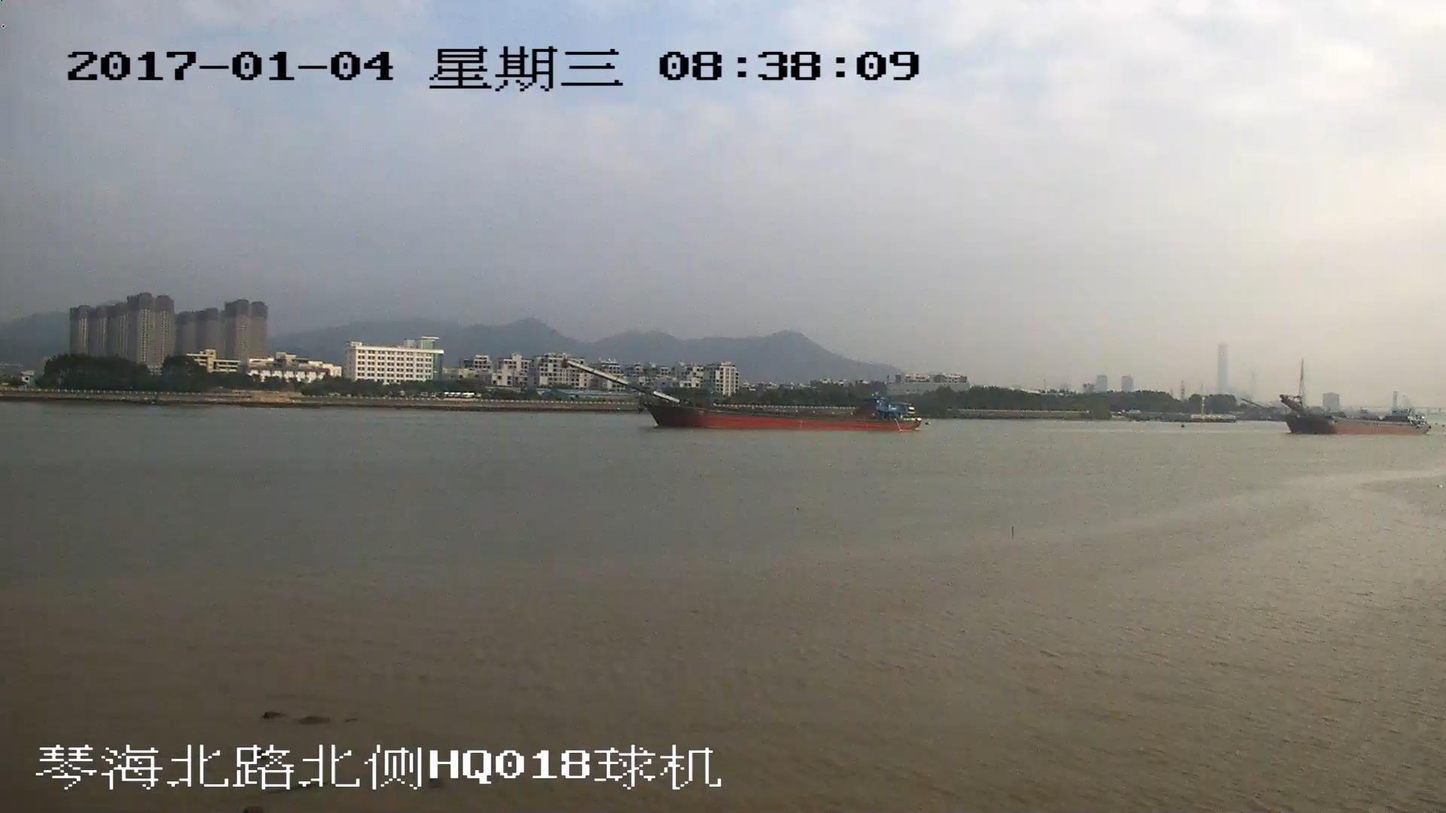bulk cargo carrier: (566, 361, 923, 431), (1281, 397, 1431, 434)
